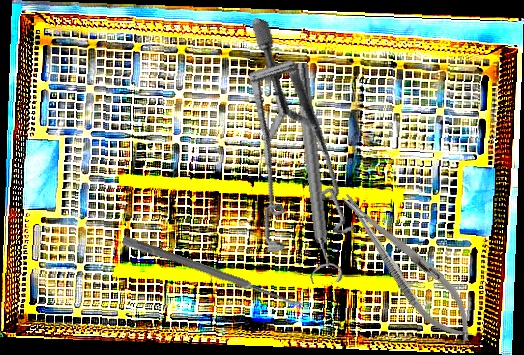Fixation Ring: (285, 61, 344, 285)
Needle Holder: (328, 180, 487, 353)
Speculum: (181, 17, 410, 276)
Surgical Spoon: (121, 235, 305, 311)
